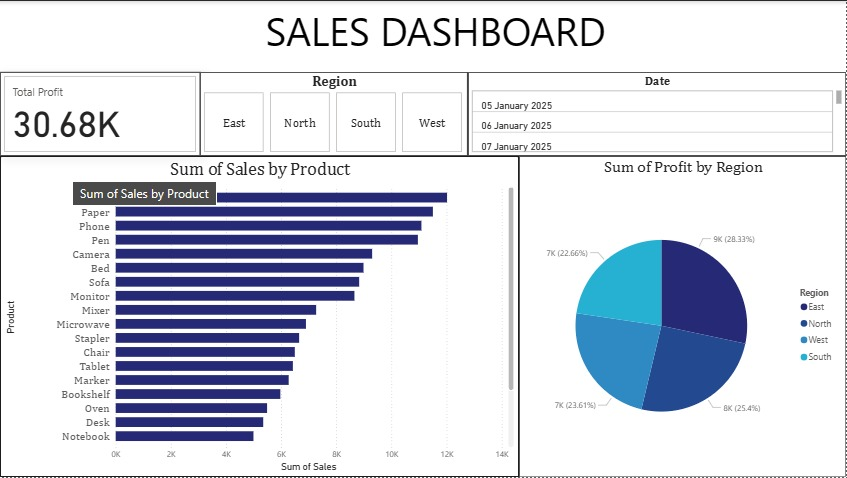

This screenshot's page, from the dashboard's own definition file:
{"tool":"powerbi","page":{"name":"Page 2","canvas":[1280,720],"ordinal":1},"visuals":[{"type":"cardVisual","title":"Total Profit","fields":{"Data":["SALES DATASET.Total Profit"]},"box":[0,107.4,302.5,127.1],"z":0},{"type":"barChart","fields":{"Category":["SALES DATASET.Product"],"Y":["Sum(SALES DATASET.Sales)"]},"box":[0,234.5,785,485.5],"z":1000},{"type":"pieChart","fields":{"Category":["SALES DATASET.Region"],"Y":["Sum(SALES DATASET.Profit)"]},"box":[785,234.5,494.6,485.5],"z":2000},{"type":"advancedSlicerVisual","fields":{"Values":["SALES DATASET.Region"]},"box":[302.5,107.4,405.4,127.1],"z":2001},{"type":"advancedSlicerVisual","fields":{"Values":["SALES DATASET.Date"]},"box":[707.9,107.4,571.8,127.1],"z":2002},{"type":"textbox","box":[323.7,0,670.1,93.8],"z":2003}]}

Visuals, with their boxes in screenshot pixels (x1, y1, x2, y2), scaled from the page's 1280x720 canvas onto the 847x478 screenshot:
"Total Profit" cardVisual: left=0, top=71, right=200, bottom=156
barChart - SALES DATASET.Product x Sum(SALES DATASET.Sales): left=0, top=156, right=519, bottom=477
pieChart - SALES DATASET.Region x Sum(SALES DATASET.Profit): left=519, top=156, right=846, bottom=477
advancedSlicerVisual - SALES DATASET.Region: left=200, top=71, right=468, bottom=156
advancedSlicerVisual - SALES DATASET.Date: left=468, top=71, right=846, bottom=156
textbox: left=214, top=0, right=658, bottom=62
